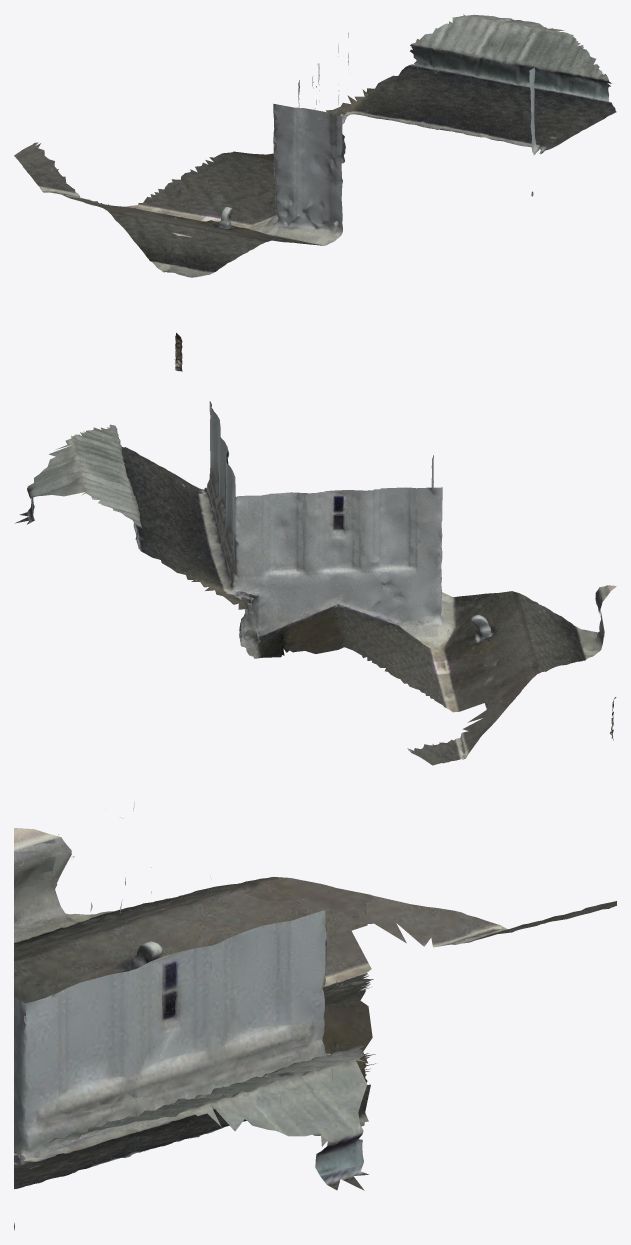
The picture shows the model from 3 angles, top to bottom: view 1: azimuth 30°, elevation 25°; view 2: azimuth 150°, elevation 25°; view 3: azimuth 270°, elevation 25°; orthographic projection. The views are drawn at different scales.
Bounding box in the file's own units: 26.66 × 12.34 × 16.98.
1 material, 1 textured.
